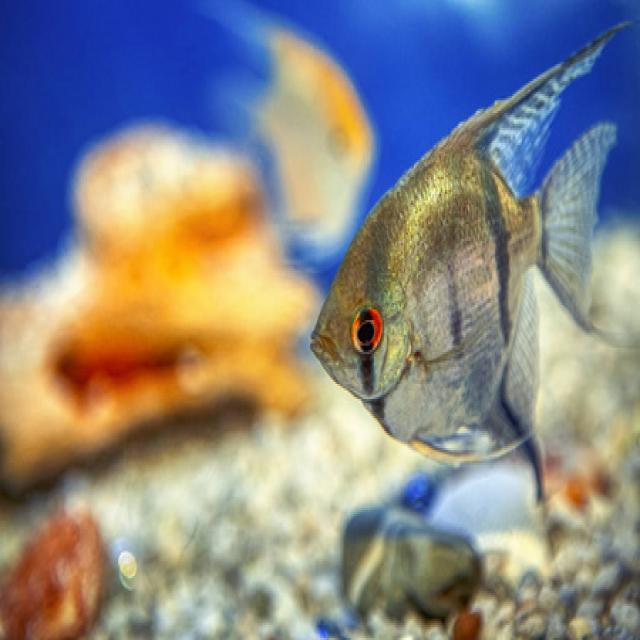AngelFish: (317, 43, 613, 450)
